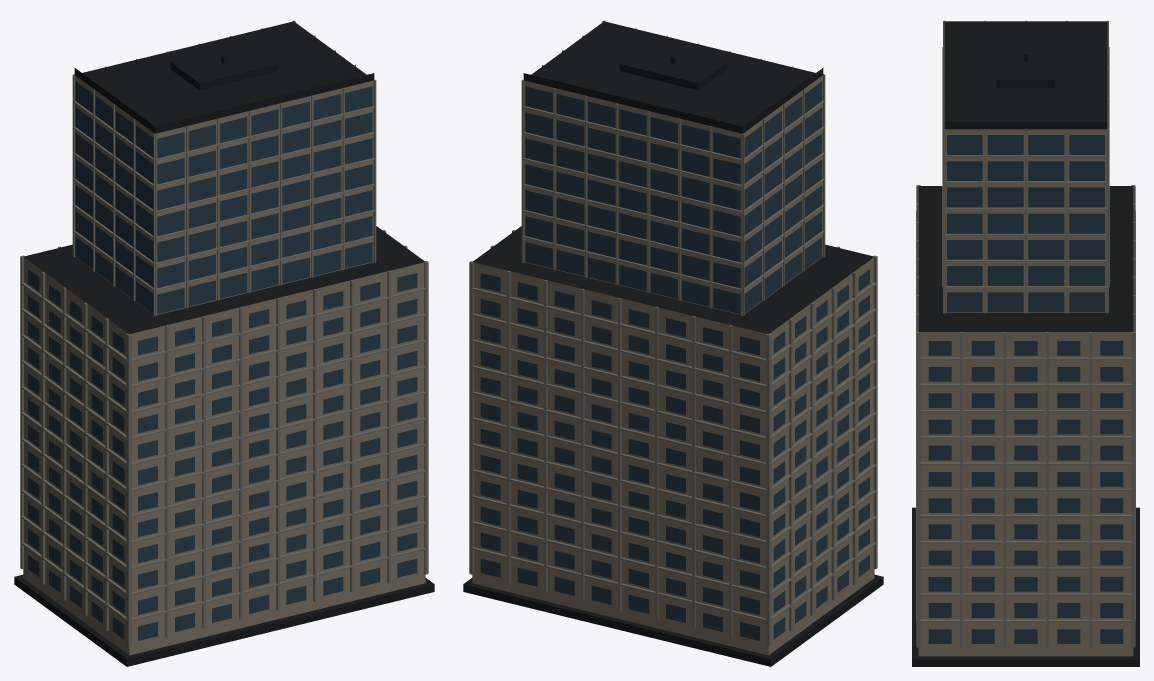
File: office-05.glb
3 views of the same model, side by side, from view 1: azimuth 30°, elevation 25°; view 2: azimuth 150°, elevation 25°; view 3: azimuth 270°, elevation 25° (orthographic).
Visible parts, largest first — view 1: stepped-tower; view 2: stepped-tower; view 3: stepped-tower.
Part boxes in pixels (box(x1,y1,x2,y2)): stepped-tower: box(14, 20, 434, 666); stepped-tower: box(463, 20, 883, 666); stepped-tower: box(912, 20, 1139, 666).
Size of the model in its own units: 48.45 by 80.06 by 30.74.
